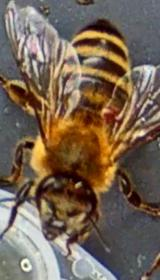varroa_mite: (86, 98, 129, 134)
